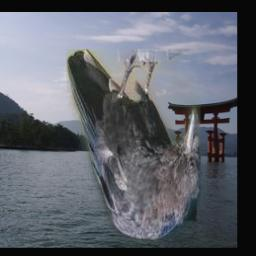Crow: (66, 50, 201, 240)
